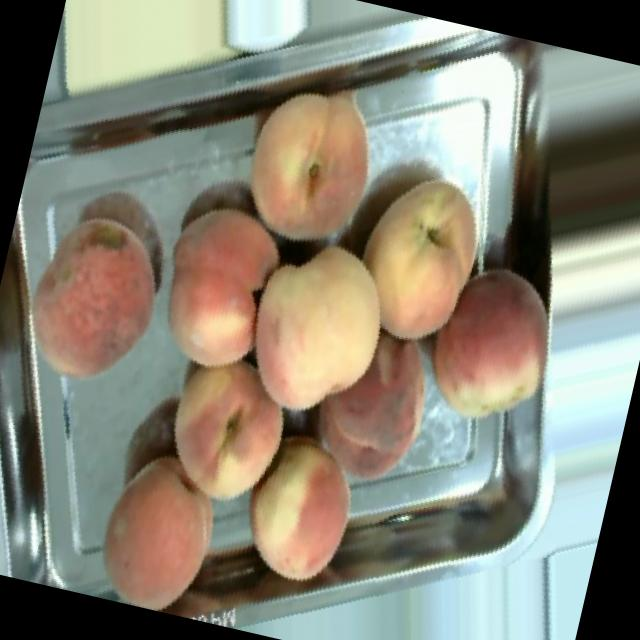Fruit: (190, 43, 417, 298), (322, 142, 522, 380), (0, 177, 196, 417), (235, 212, 424, 451), (394, 234, 594, 455), (125, 317, 325, 538), (282, 298, 467, 516), (117, 164, 290, 396), (41, 0, 282, 159), (212, 402, 390, 612), (68, 426, 252, 624)
